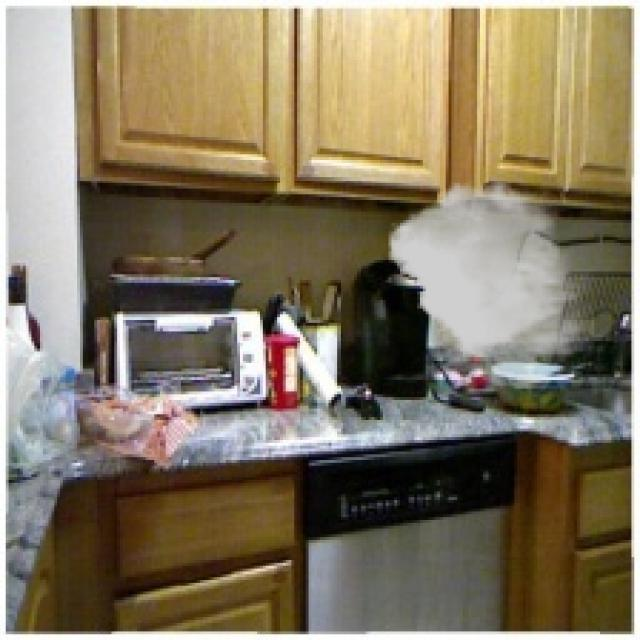Smoke: (388, 180, 594, 389)
